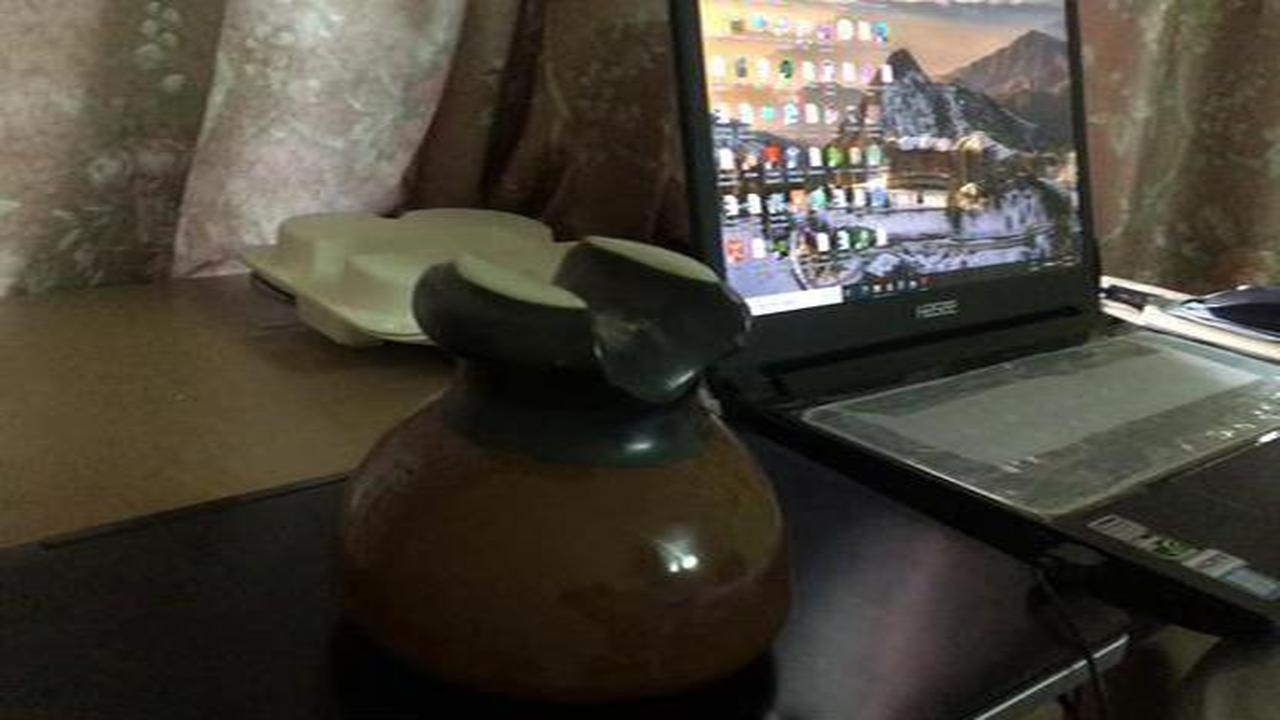insulator_pin: (314, 224, 813, 705)
